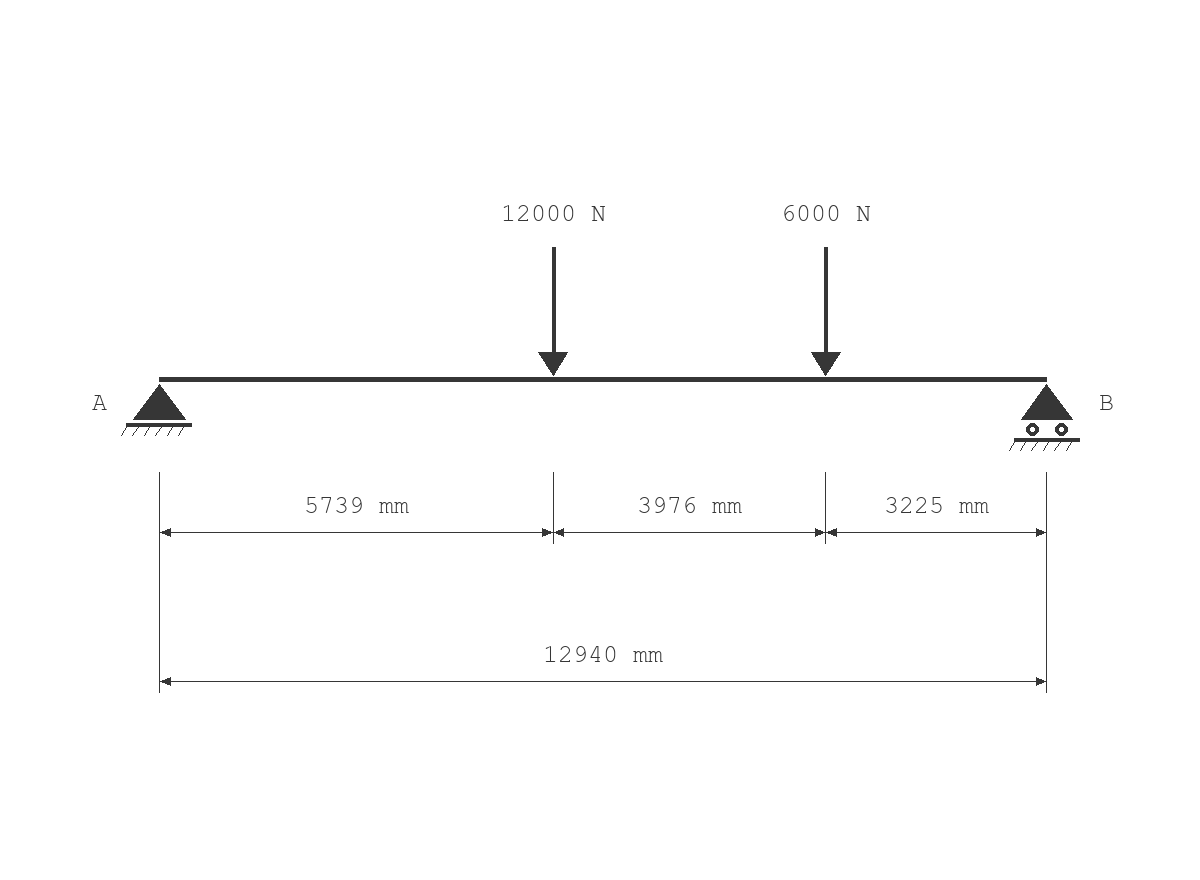pin_support: (121, 384, 192, 436)
point_load: (538, 247, 568, 376), (811, 247, 841, 376)
roller_support: (1009, 384, 1080, 451)
